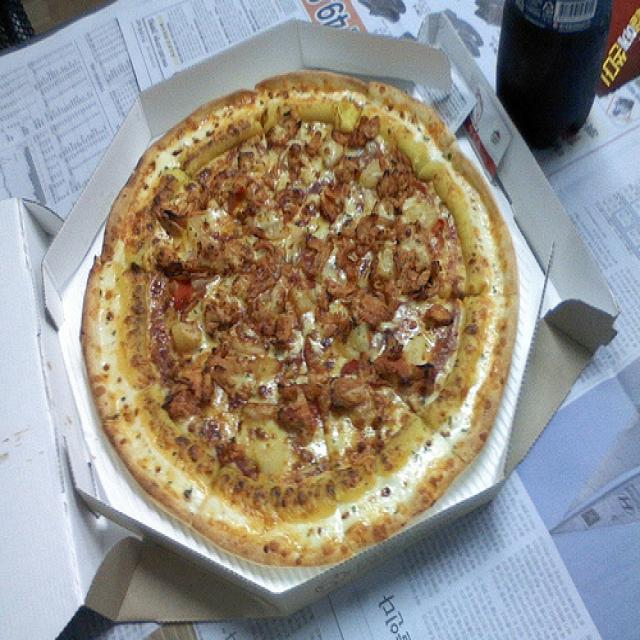Wet Waste: (76, 68, 521, 573)
